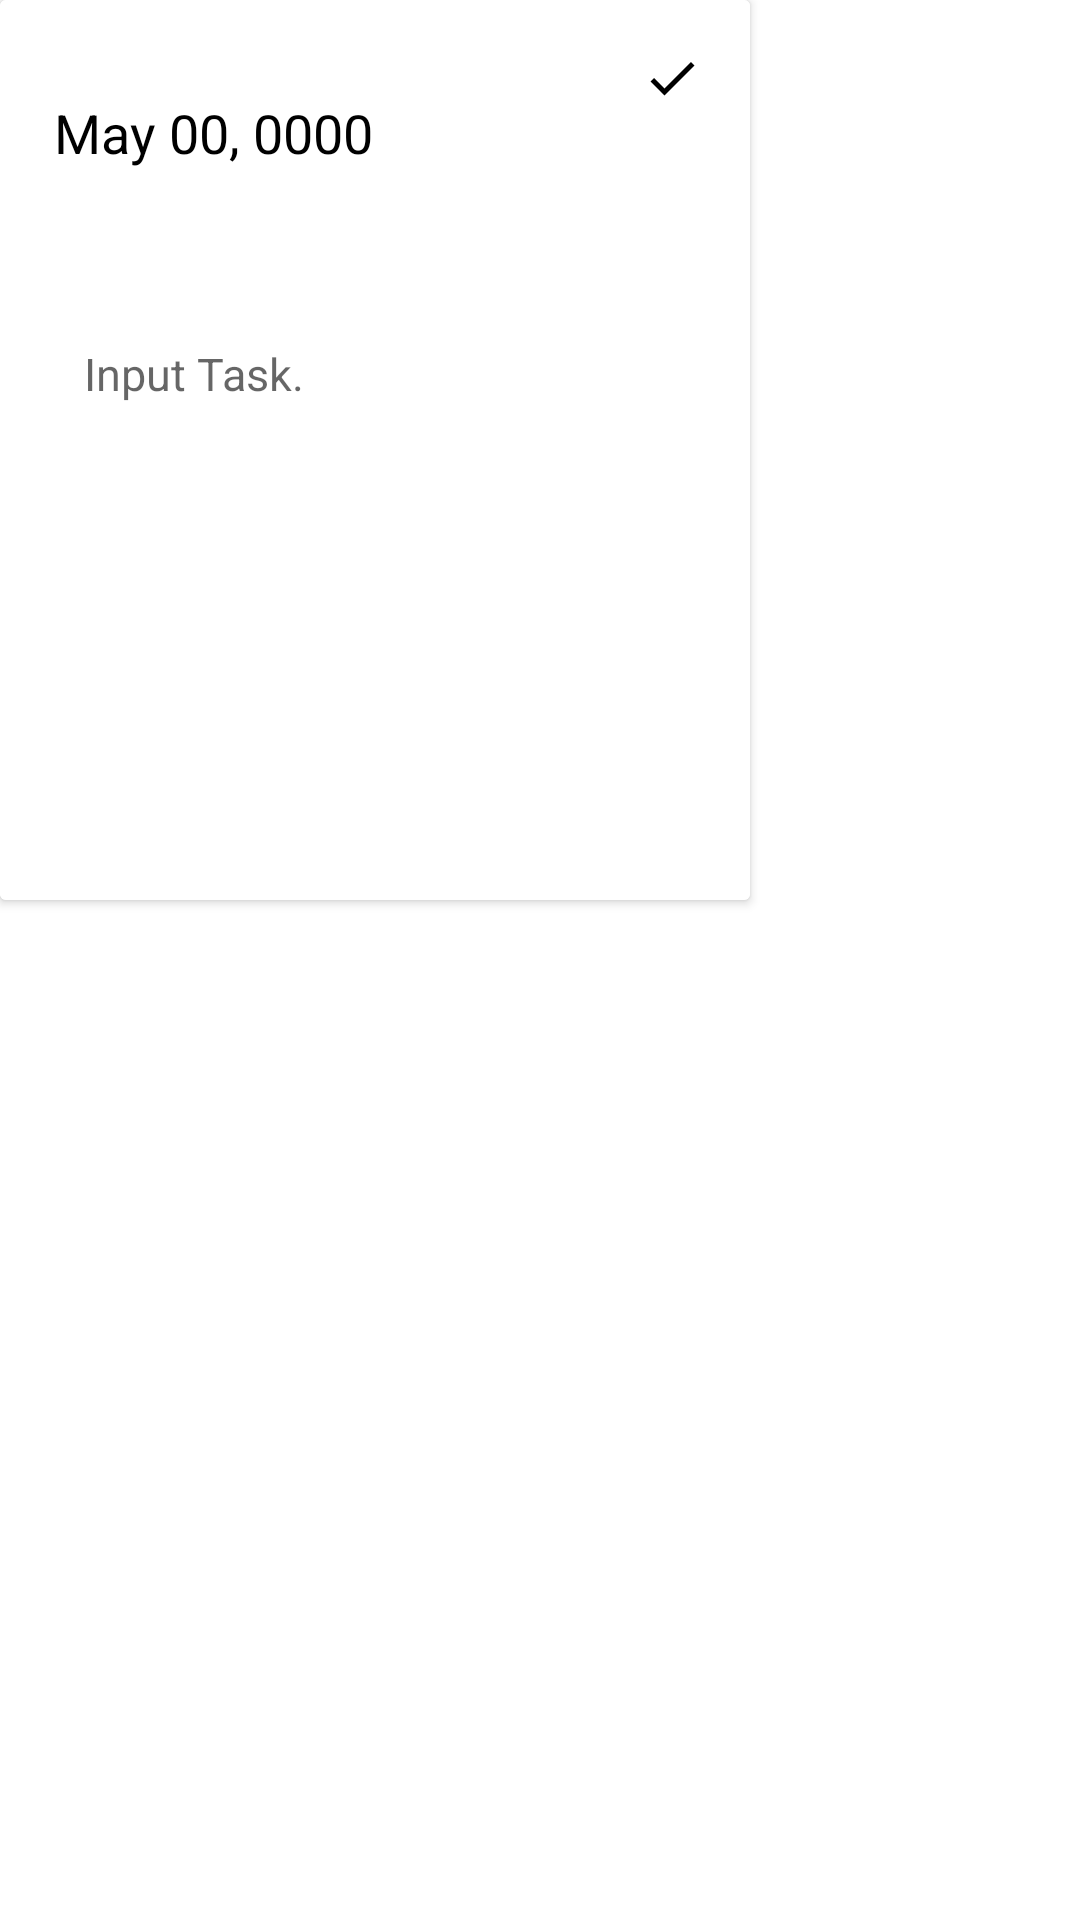

Where icons sit on this 1080px x 1920px app screen, as [x1, y1, x2, y2]:
check: [650, 62, 695, 96]
